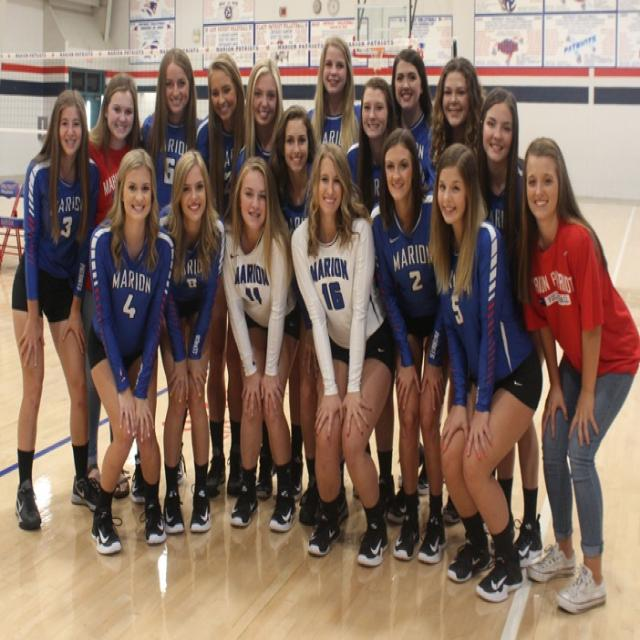body: (514, 134, 639, 616), (425, 138, 543, 605), (287, 138, 398, 568), (10, 86, 108, 532), (367, 124, 458, 567), (85, 143, 177, 557), (476, 84, 545, 571), (216, 153, 303, 536), (149, 147, 226, 538), (193, 51, 249, 499), (85, 70, 143, 502), (266, 101, 324, 529), (385, 47, 436, 500), (346, 76, 398, 506), (138, 45, 203, 217), (306, 35, 366, 177), (427, 55, 488, 171), (234, 56, 284, 176)
